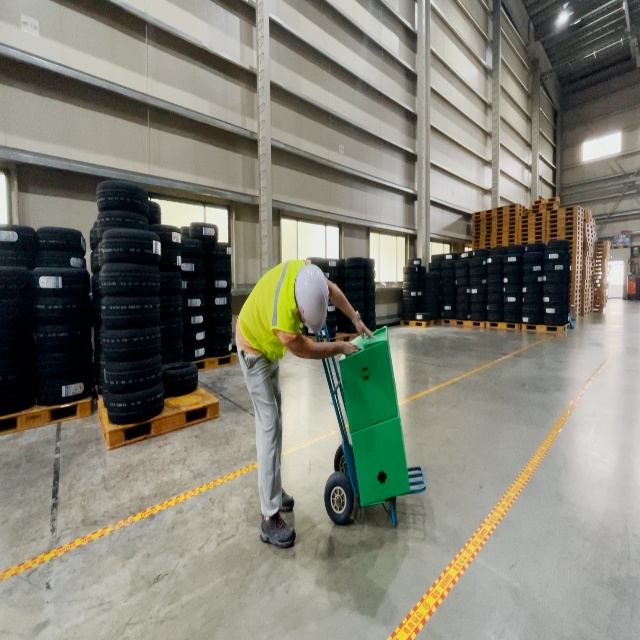Box: (338, 324, 399, 435), (350, 403, 411, 509)
Worker: (234, 258, 376, 551)
